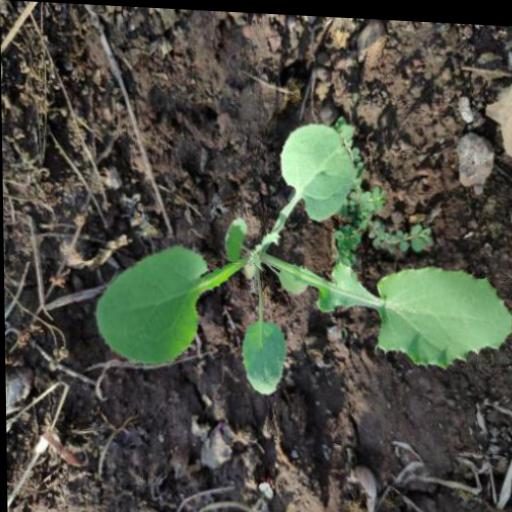weed: (68, 111, 512, 394)
